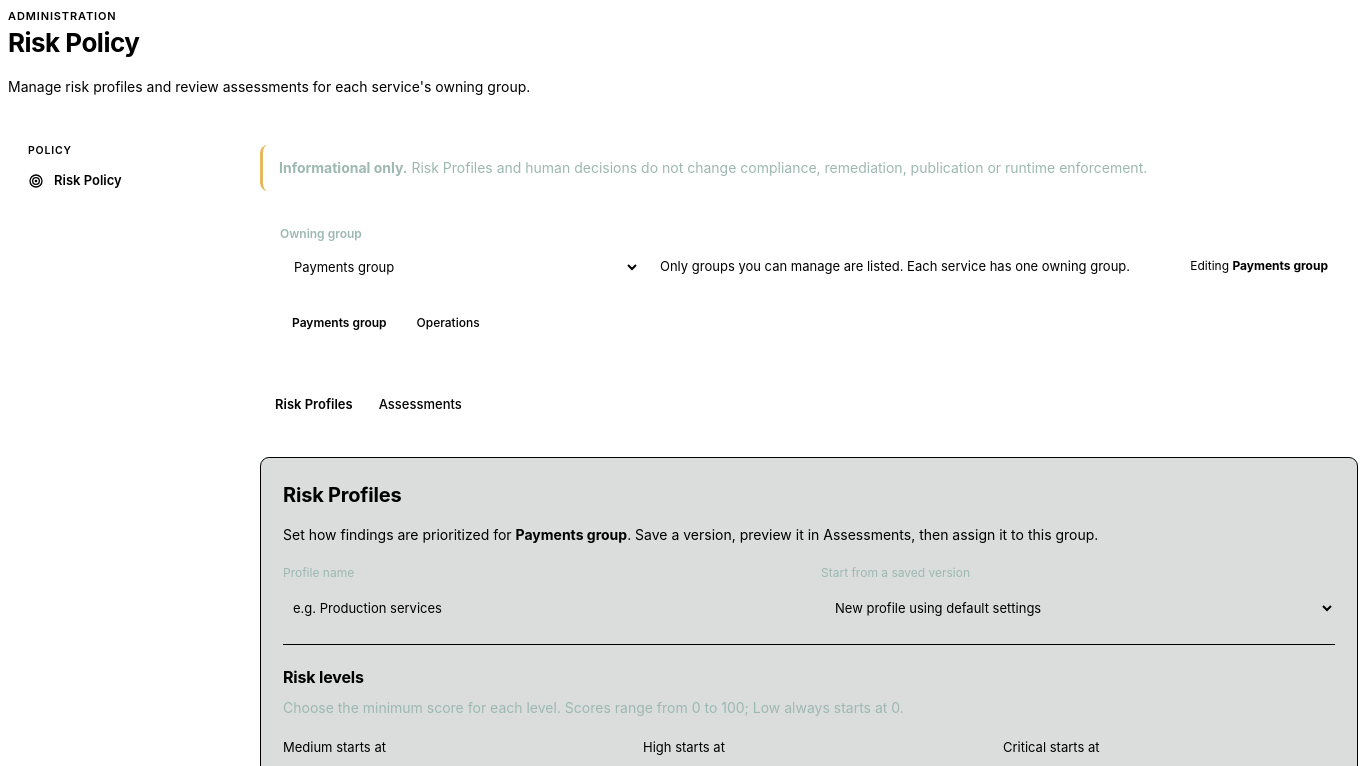
distinguishes no scan, stale evidence and preview from a clean assessment
This screenshot has width=1366, height=766.
Click the button "Assessments": click(420, 405) [367,390,474,420]
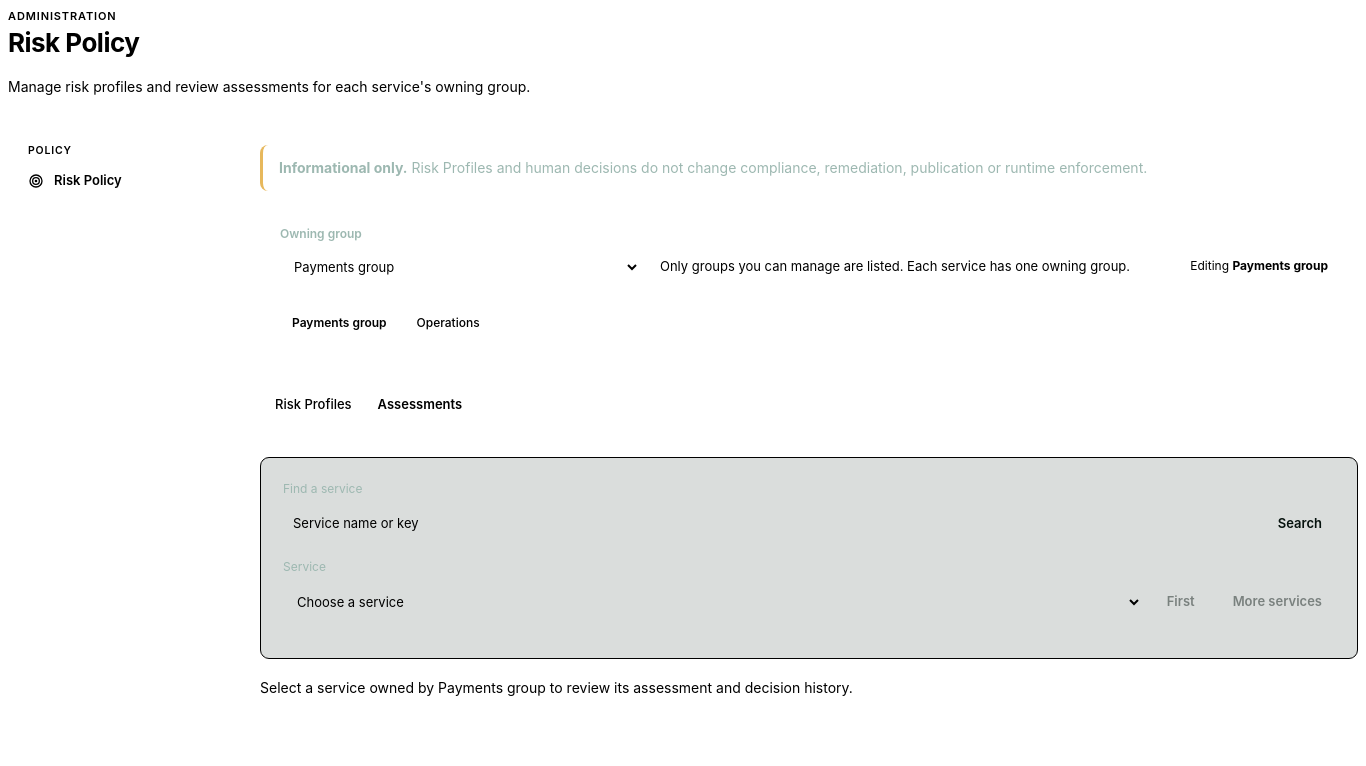
Select "Payments" in the dropdown labelled "Service": (712, 602) [283,584,1142,620]
(page scrolled)
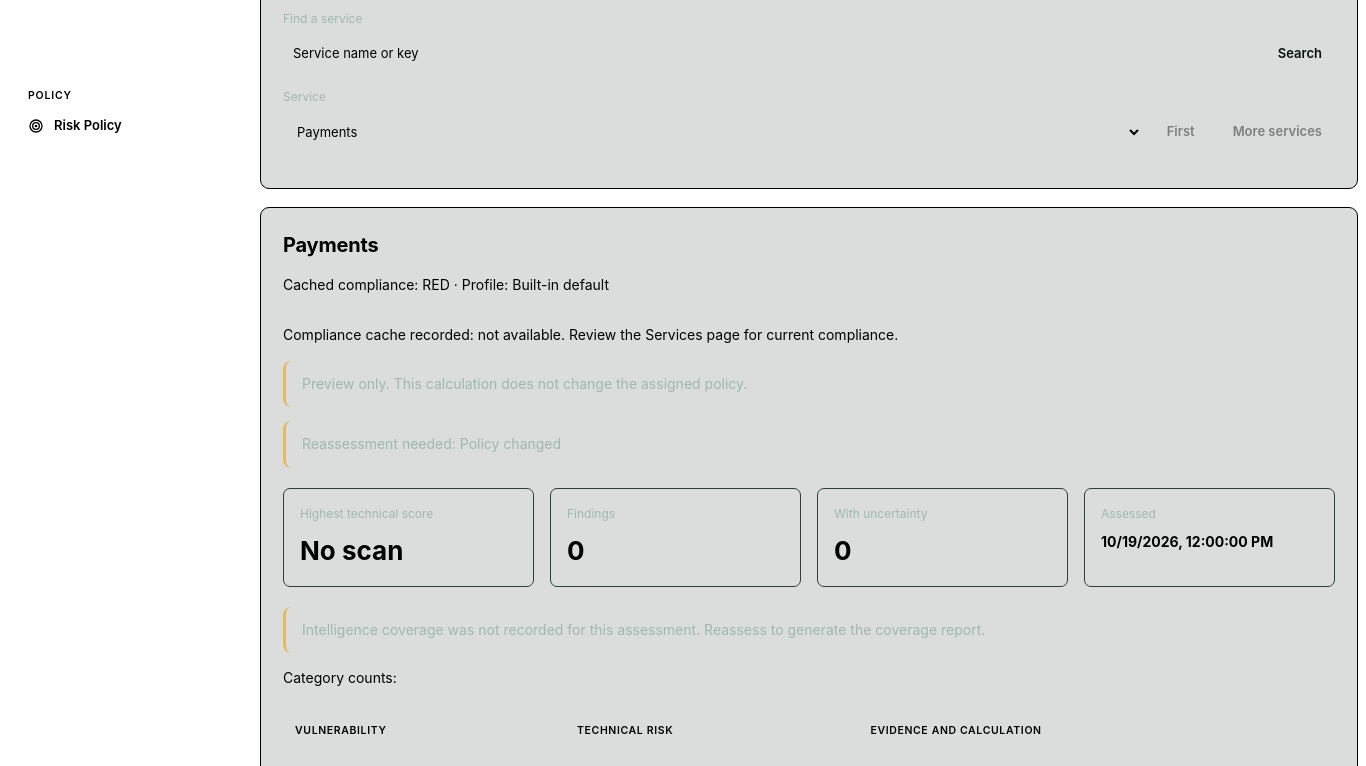
expect the heading "Payments" is shown: met, box [283,233,378,257]
expect the text "No scan" is shown: met, box [300,535,403,566]
expect the text "Reassessment needed: Policy changed" is shown: met, box [283,421,1335,468]
